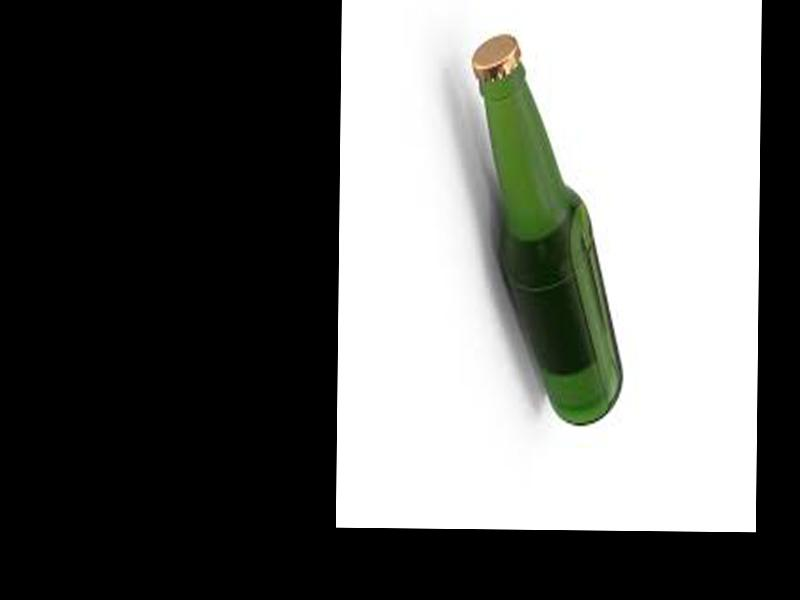Beer: (467, 31, 626, 426)
